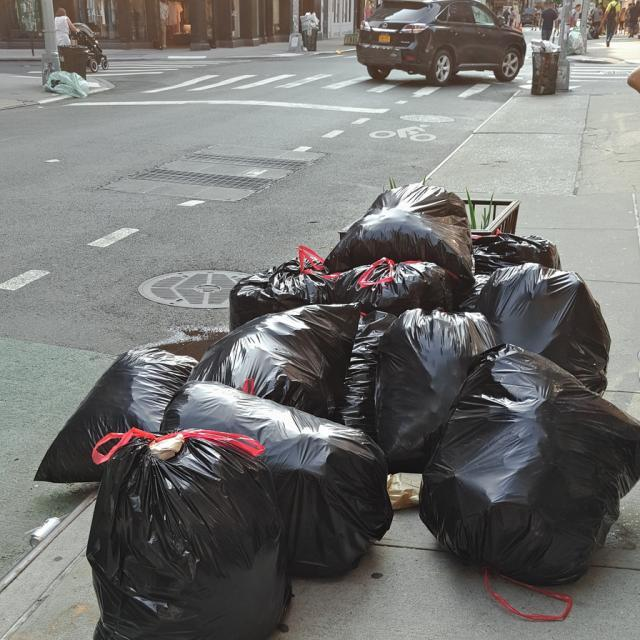garbage: (34, 169, 629, 640)
